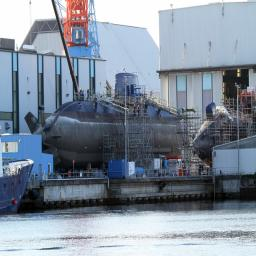submarine: (29, 97, 187, 168), (192, 100, 244, 167)
